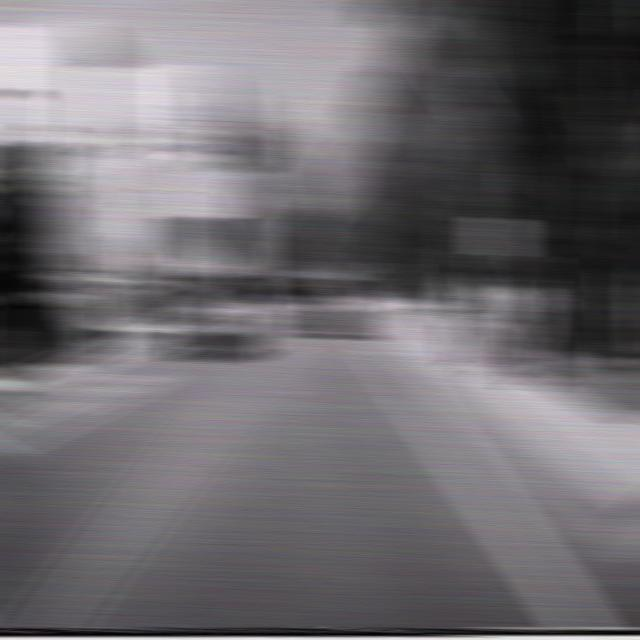speedLimit35: (479, 216, 517, 256)
